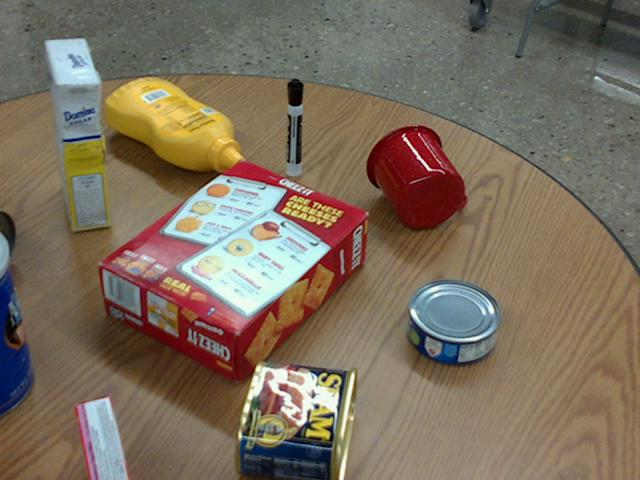cracker_box: (100, 161, 368, 381)
gelatin_box: (74, 393, 129, 479)
large_marker: (285, 79, 303, 175)
master_chef_can: (0, 234, 32, 413)
mug: (366, 124, 466, 228)
mustard_bottle: (105, 78, 244, 171)
potted_meat_can: (233, 360, 357, 479)
sugar_box: (47, 38, 108, 230)
tomato_soup_can: (0, 209, 14, 268)
tuna_fish_can: (407, 279, 500, 364)
